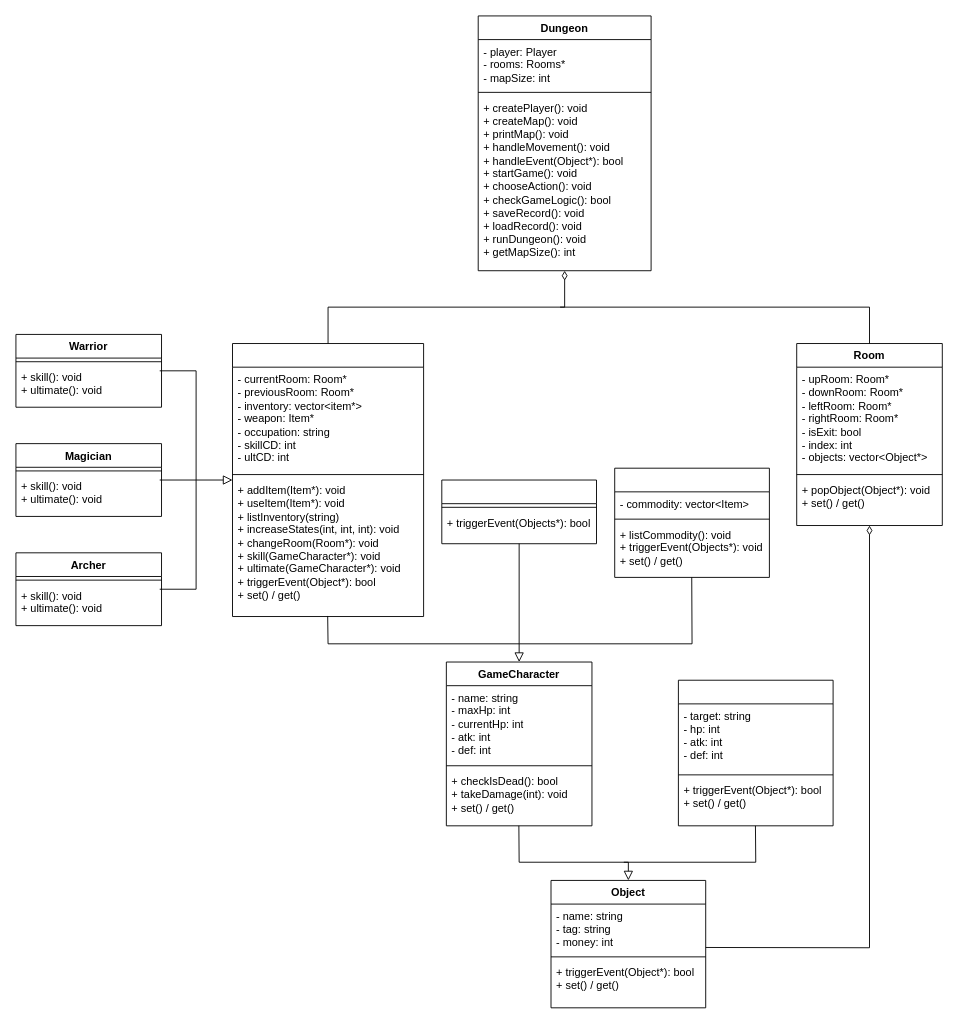
Some shapes in this 958 by 1026 pixel diagram are drawn without their labels. Each missing label, with the box of its shape:
Item: (677, 679, 833, 826)
Monster: (441, 479, 597, 544)
NPC: (614, 467, 769, 577)
Player: (232, 343, 424, 617)
